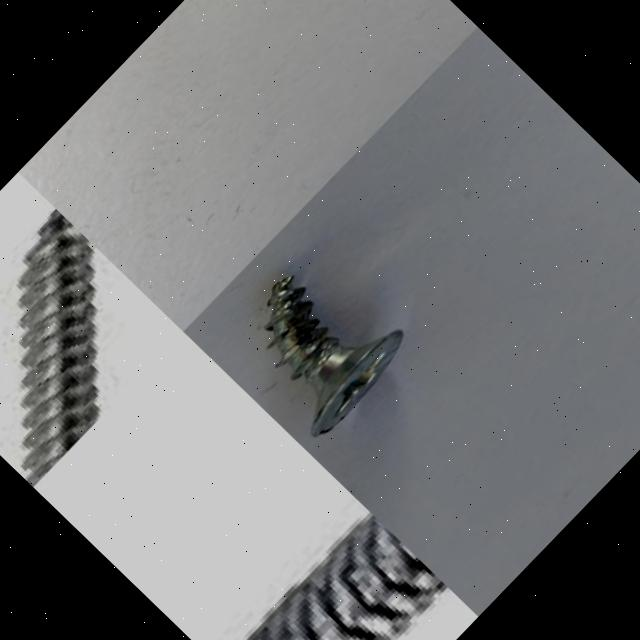Screw: (246, 512, 450, 640), (16, 209, 99, 487), (265, 276, 403, 436), (180, 0, 298, 30)
